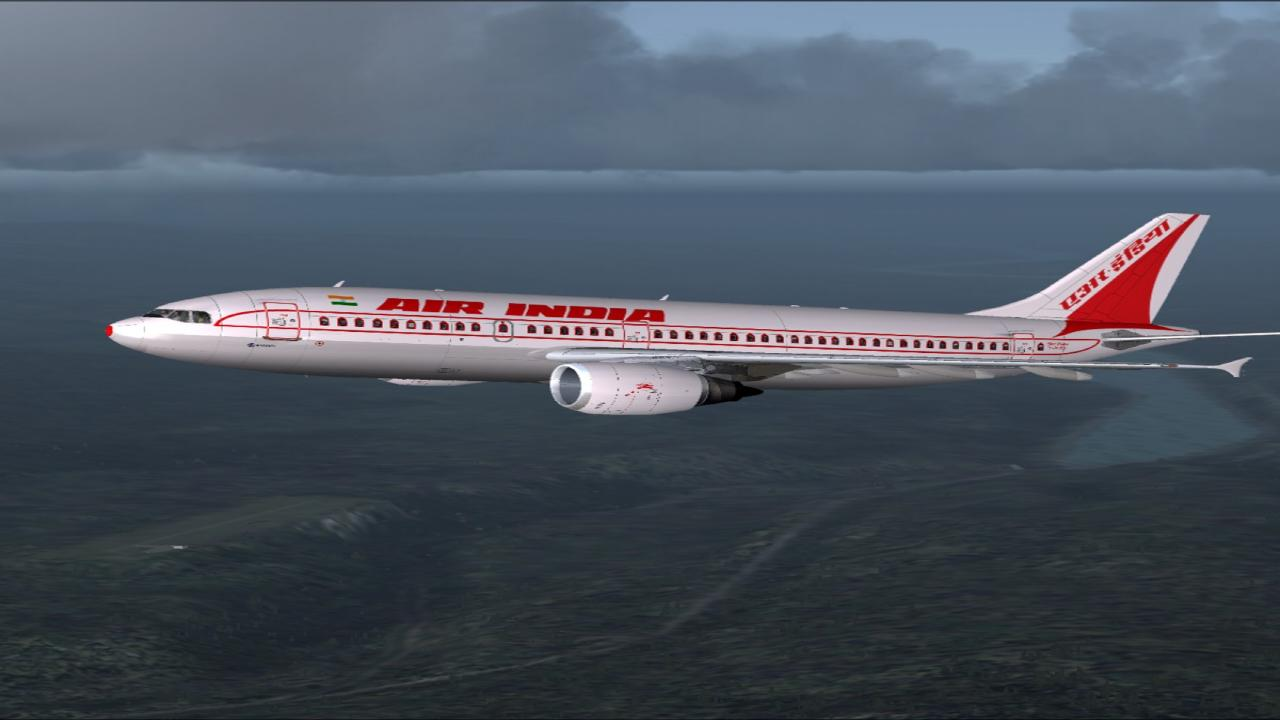Airplane: (76, 196, 1280, 437)
